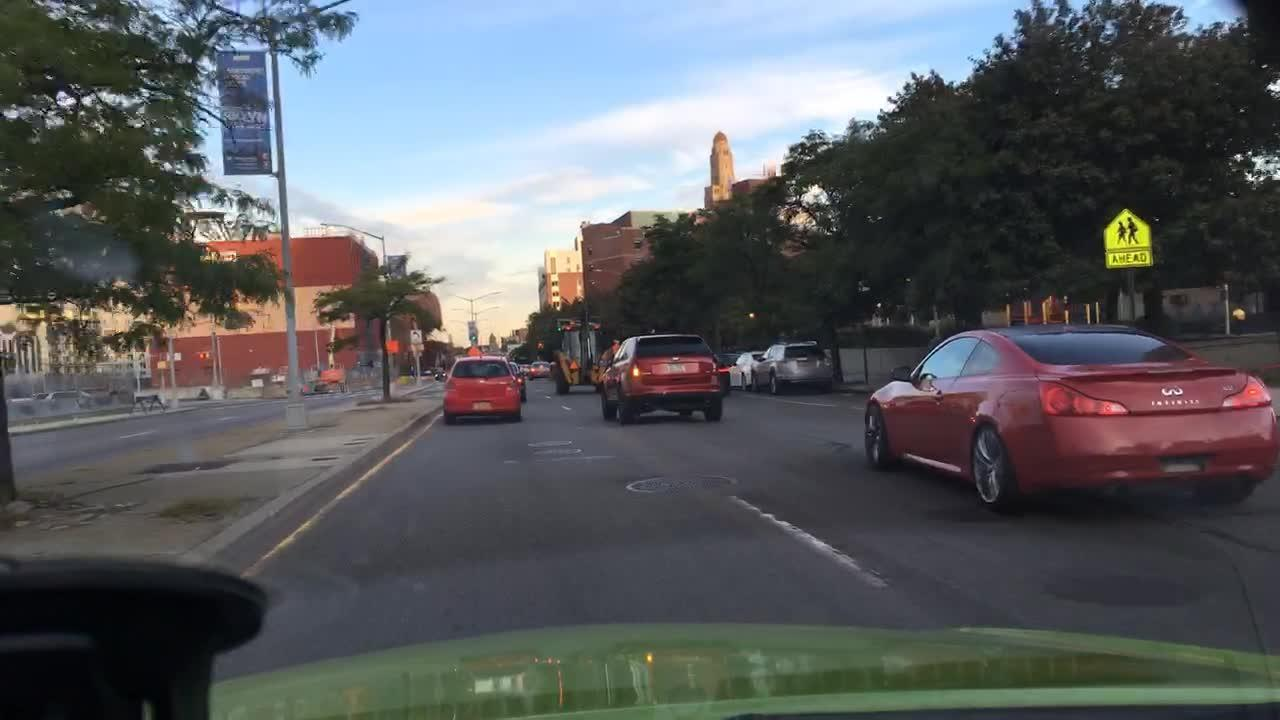Infiniti: (1159, 383, 1185, 397)
